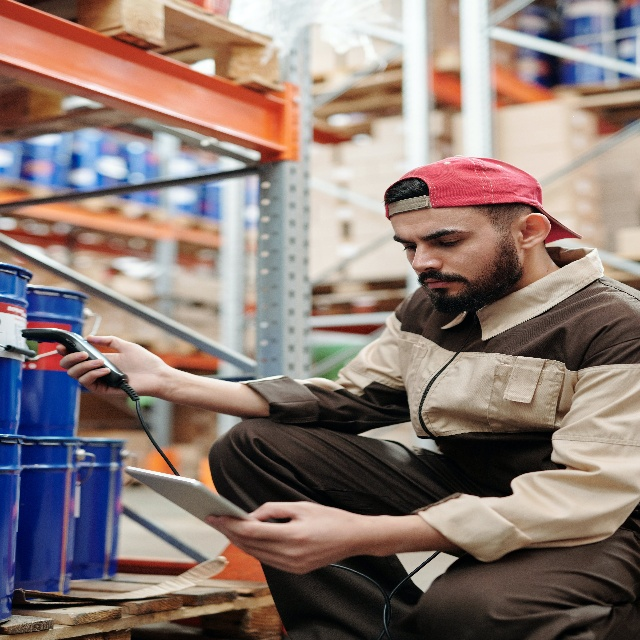Sin_guantes: (204, 500, 359, 574), (55, 335, 166, 399)
